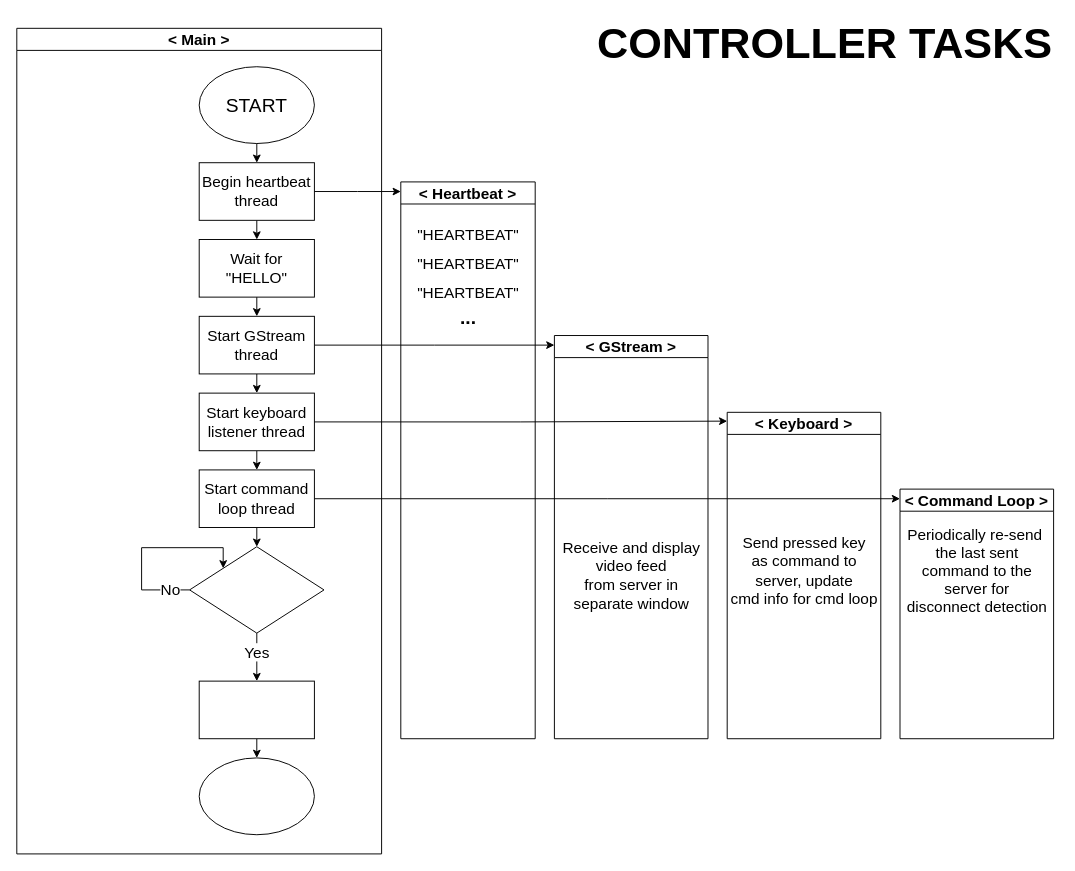
This 1075x871 diagram has some shape labels left out. The centre of each missing label's shape, as x and y in pixels:
"END" belongs at (256,796).
"Exit video or CTRL+C?" belongs at (256,589).
"Notify server of shutdown" belongs at (256,709).
